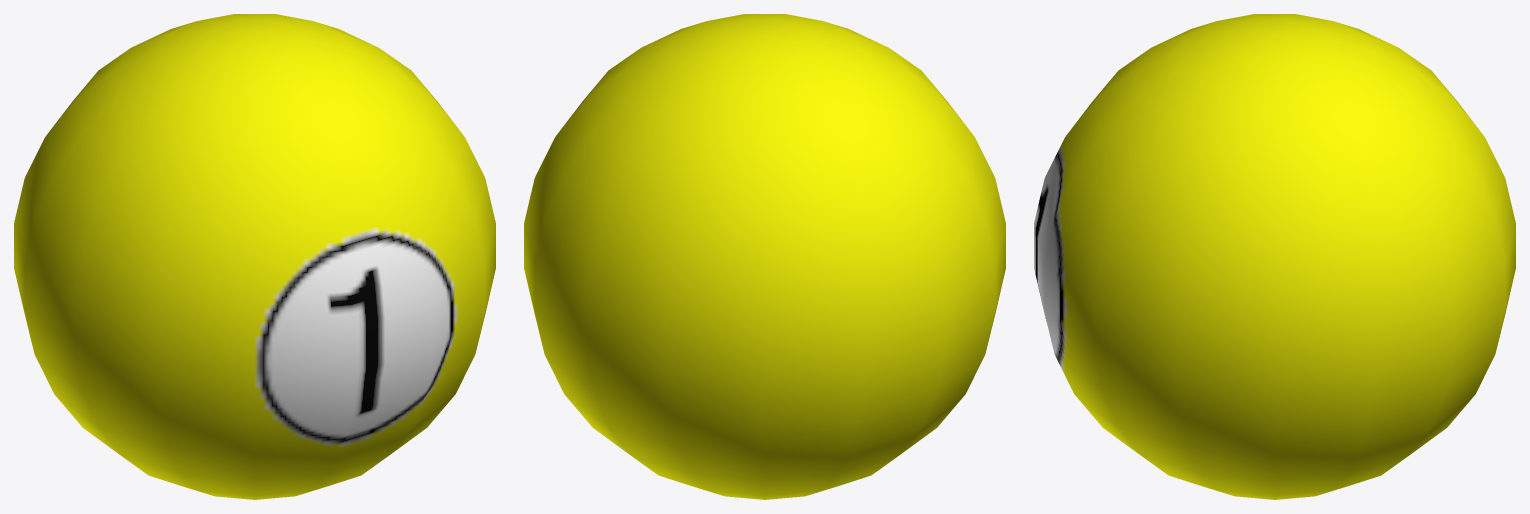
File: Ball.fbx
The picture shows the model from 3 angles, left to right: view 1: azimuth 30°, elevation 25°; view 2: azimuth 150°, elevation 25°; view 3: azimuth 270°, elevation 25°; orthographic projection.
Parts seen in each view (by area): view 1: pSphere1; view 2: pSphere1; view 3: pSphere1.
Part boxes in pixels (x1,y1,x2,y2): pSphere1: [14, 14, 495, 499]; pSphere1: [524, 14, 1005, 499]; pSphere1: [1034, 14, 1515, 499].
Bounding box in the file's own units: 5.74 × 5.83 × 5.77.
Materials: 1 (1 with a texture image).
